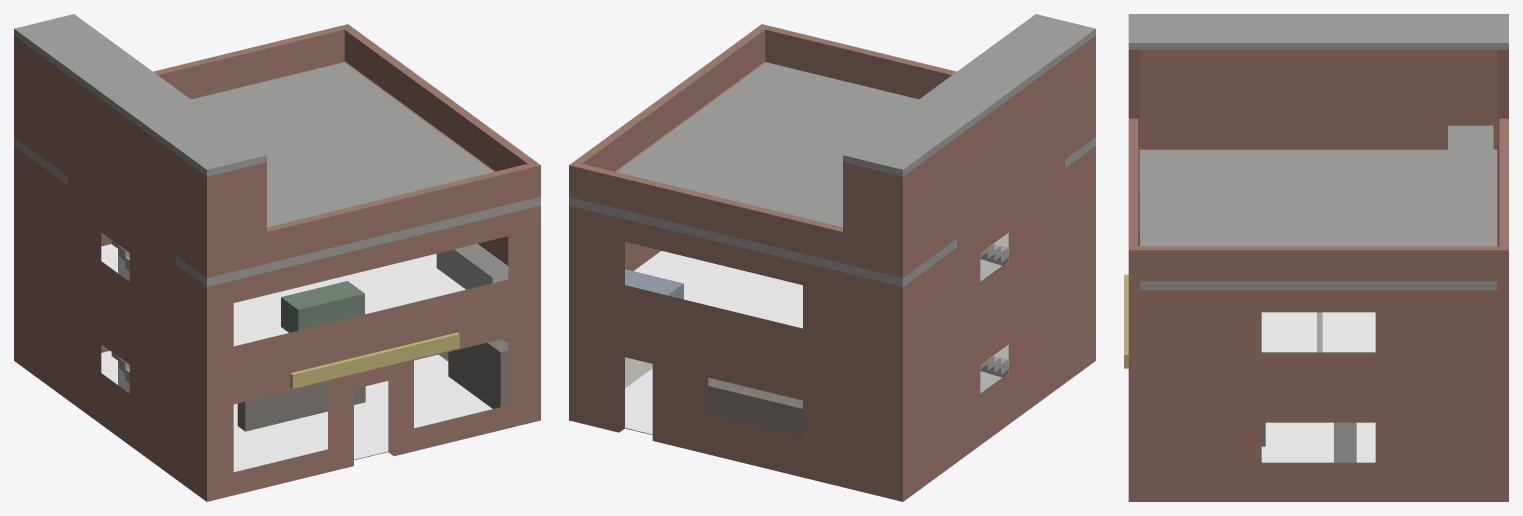
File: townhouse.reveal-v1.lod0.glb
3 views of the same model, side by side, from view 1: azimuth 30°, elevation 25°; view 2: azimuth 150°, elevation 25°; view 3: azimuth 270°, elevation 25° (orthographic).
Visible parts, largest first — view 1: townhouse; view 2: townhouse; view 3: townhouse.
Part boxes in pixels (left/top/right/bottom): townhouse: left=14, top=14, right=540, bottom=501; townhouse: left=569, top=14, right=1095, bottom=501; townhouse: left=1124, top=14, right=1508, bottom=501.
Size of the model in its own units: 10 by 9.5 by 10.12.
